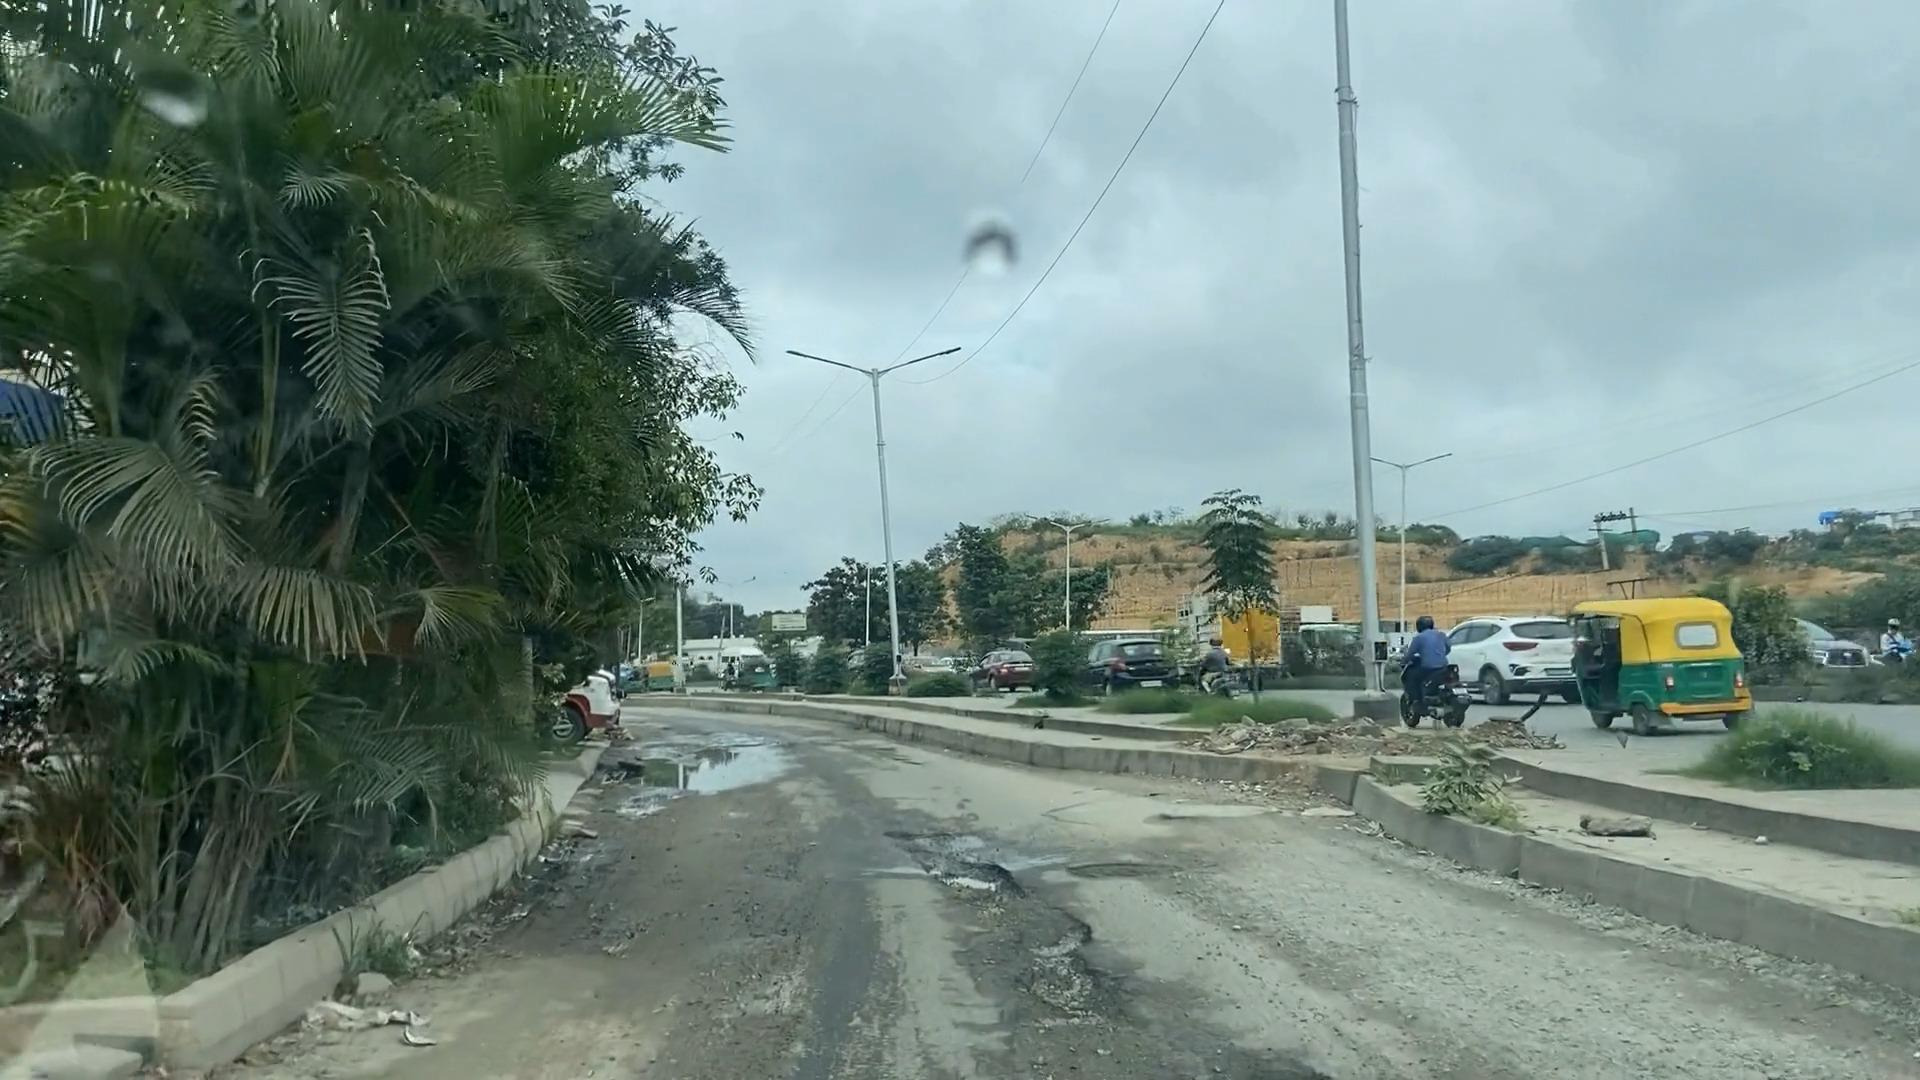RoadDamages: (870, 810, 1055, 902), (1006, 910, 1129, 1014), (1035, 816, 1170, 903), (1154, 783, 1284, 832)
